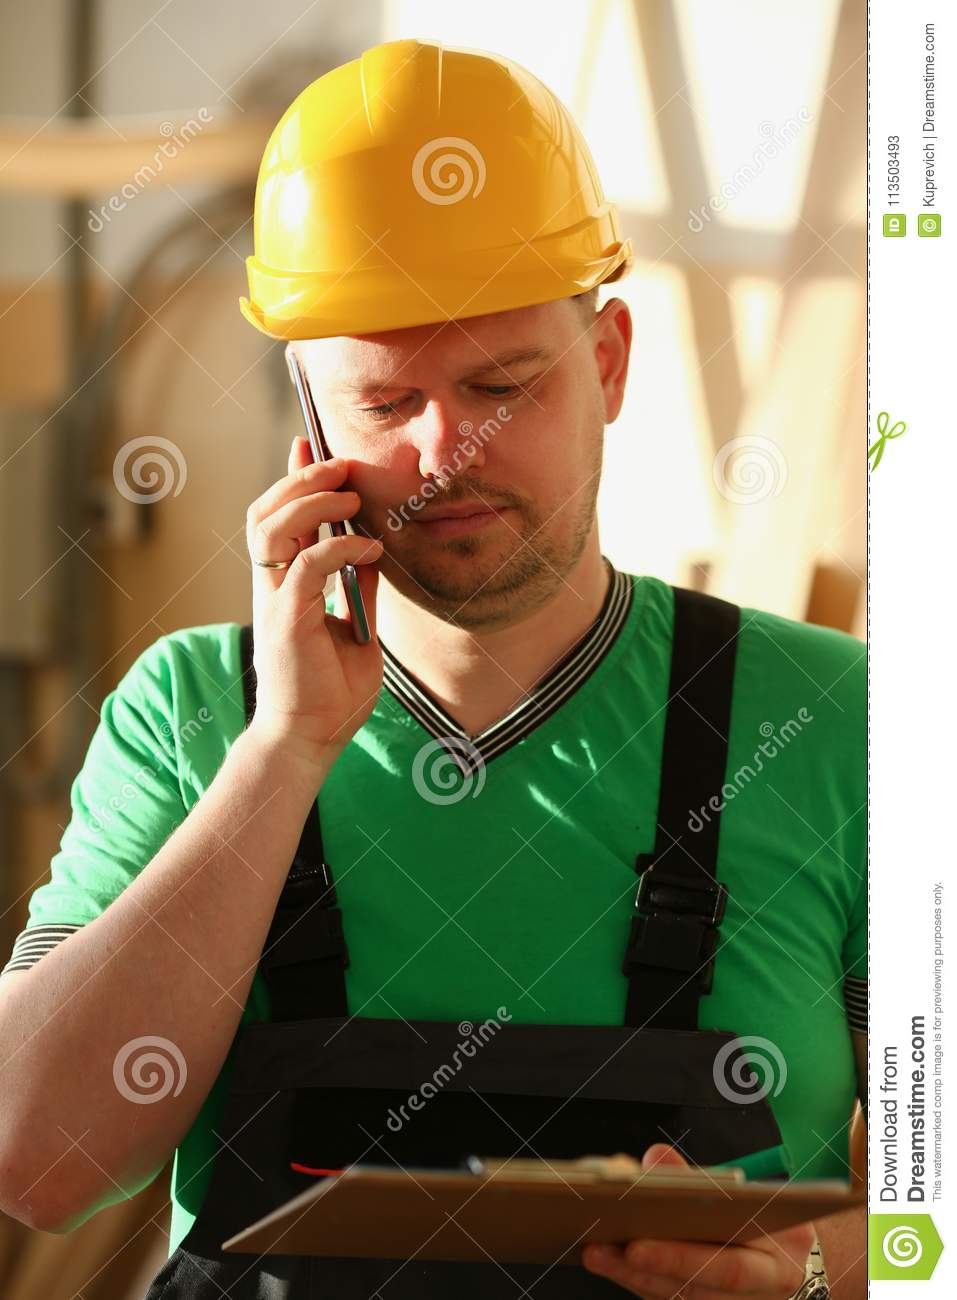phone: (278, 350, 378, 659)
talk: (246, 346, 561, 747)
